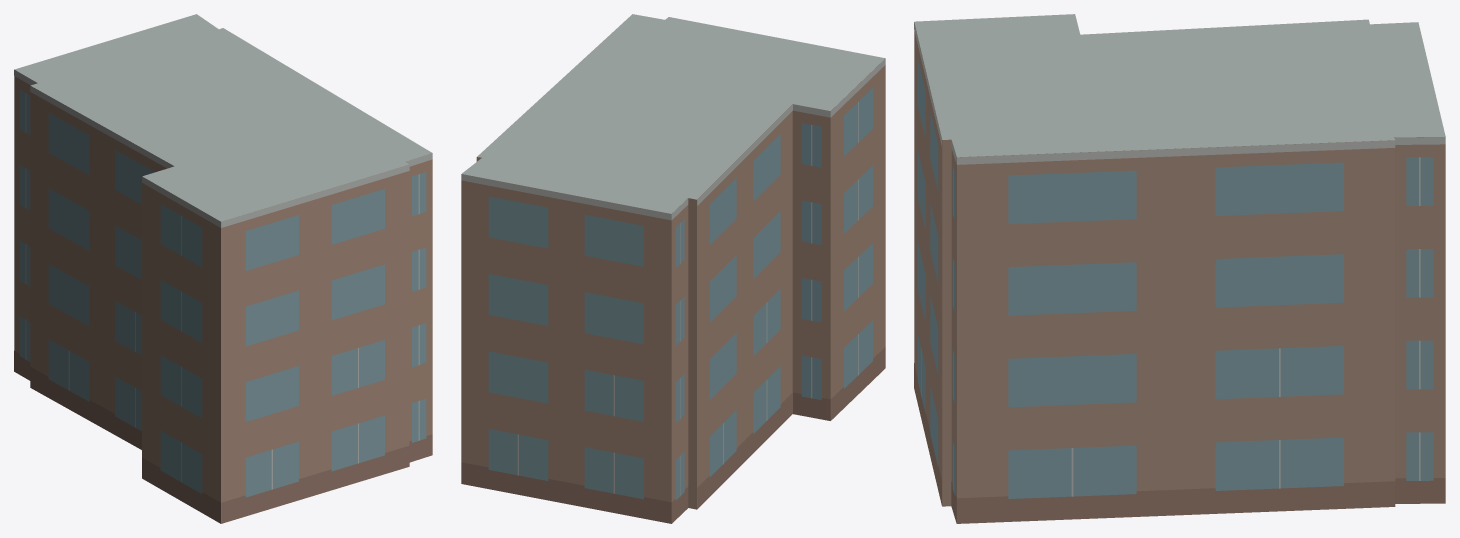
File: survey-upis-32662736.glb
3 views of the same model, side by side, from view 1: azimuth 30°, elevation 25°; view 2: azimuth 150°, elevation 25°; view 3: azimuth 270°, elevation 25° (orthographic). The views are drawn at different scales.
Parts seen in each view (by area): view 1: survey-upis-32662736.tmp; view 2: survey-upis-32662736.tmp; view 3: survey-upis-32662736.tmp.
Boxes of the visible parts, x1,y1,x2,y2 form: survey-upis-32662736.tmp: (14,14,432,523); survey-upis-32662736.tmp: (461,14,885,523); survey-upis-32662736.tmp: (914,14,1445,523).
Size of the model in its own units: 9.81 by 11.7 by 15.38.
